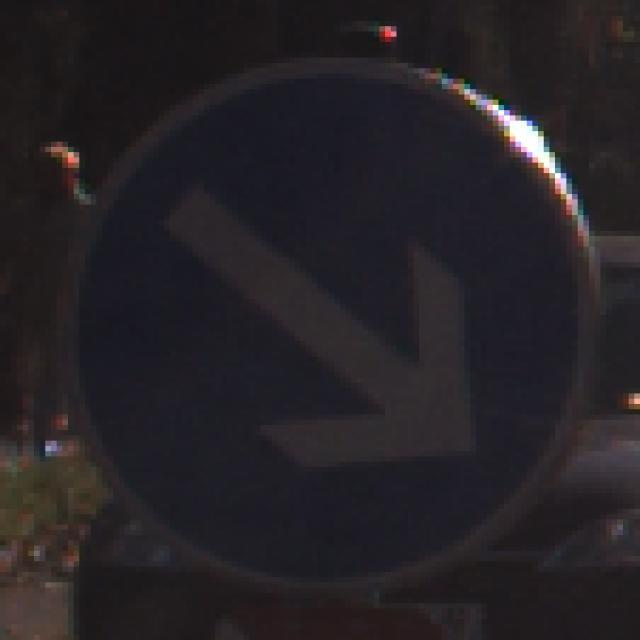compulsary keep right: (61, 54, 600, 593)
